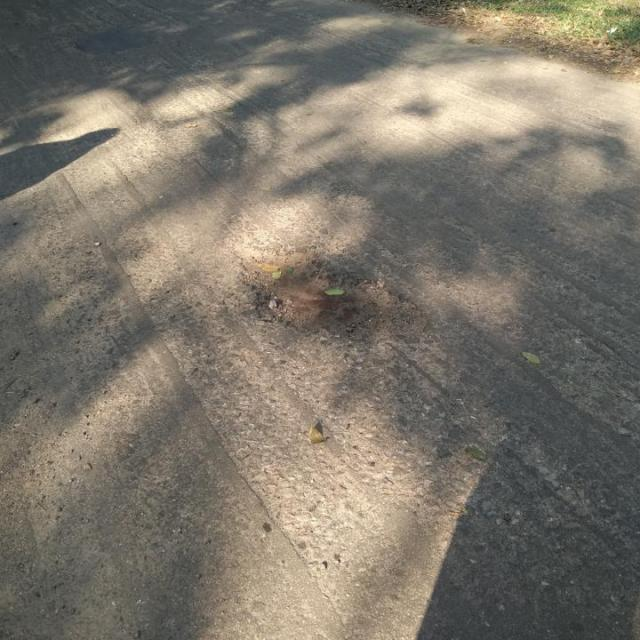pothole: (238, 243, 437, 349)
